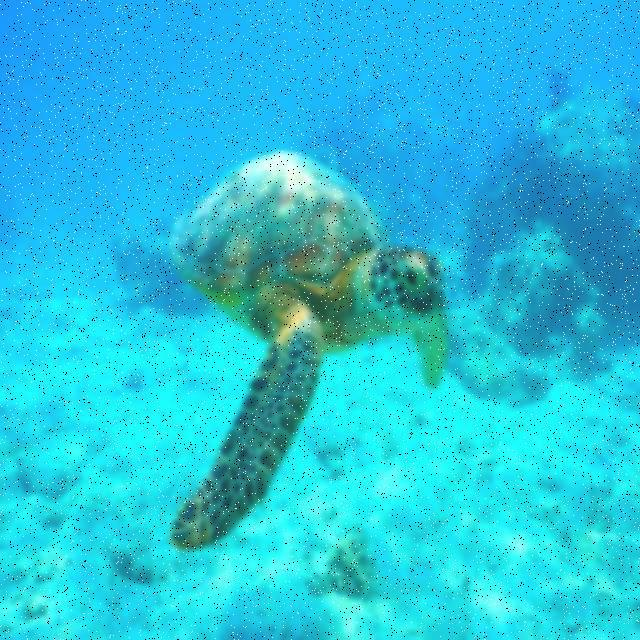tortoise: (168, 143, 464, 562)
